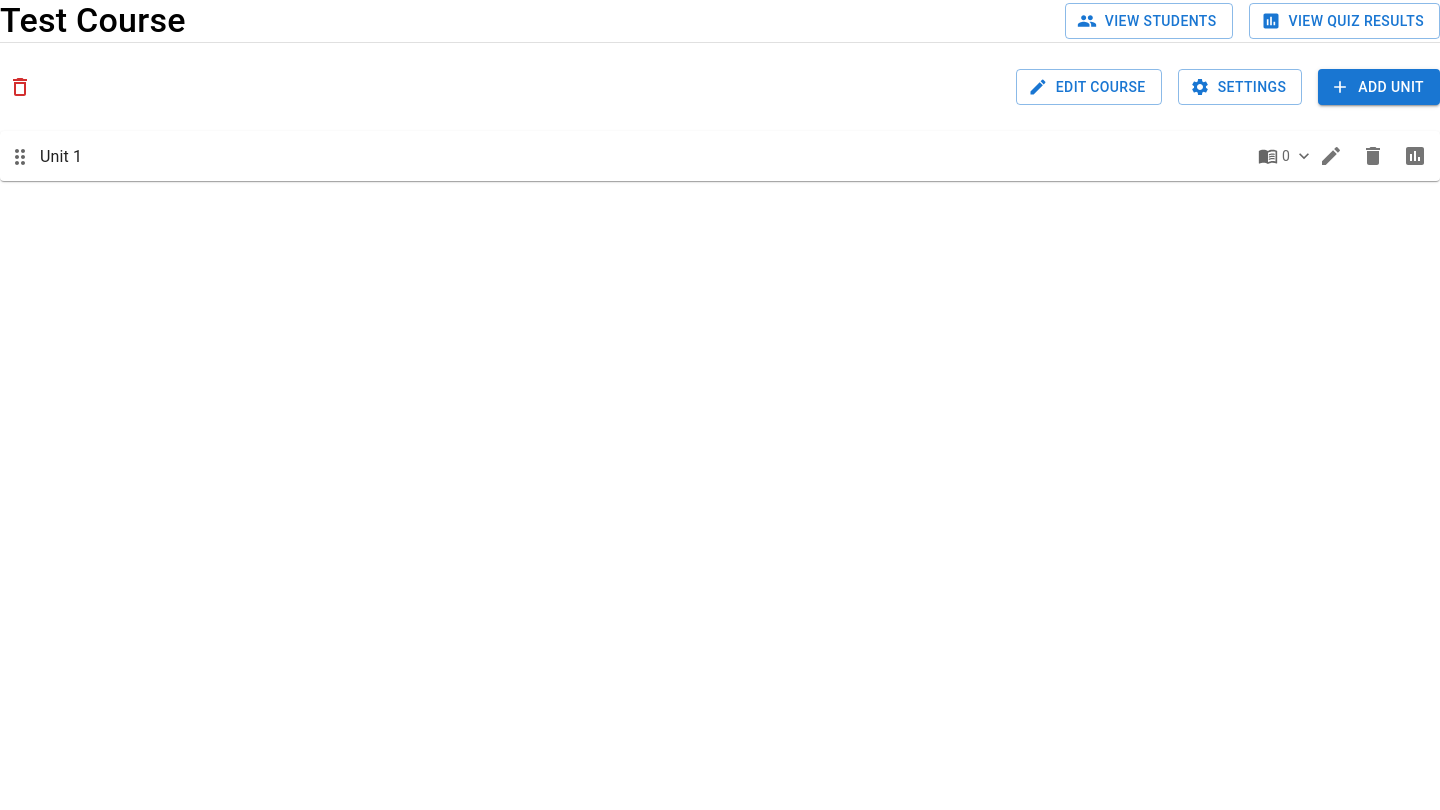
Scenario: CourseEditor › Deleting units › shows confirmation dialog when deleting unit
The image size is (1440, 810).
Expected: the text "Unit 1" is shown, [40,147,82,166]
What coordinates should you click on to do the following:
click the button with test id "delete-unit-button"
I would click on:
 (1373, 156)
Its box is [1356,139,1390,173].
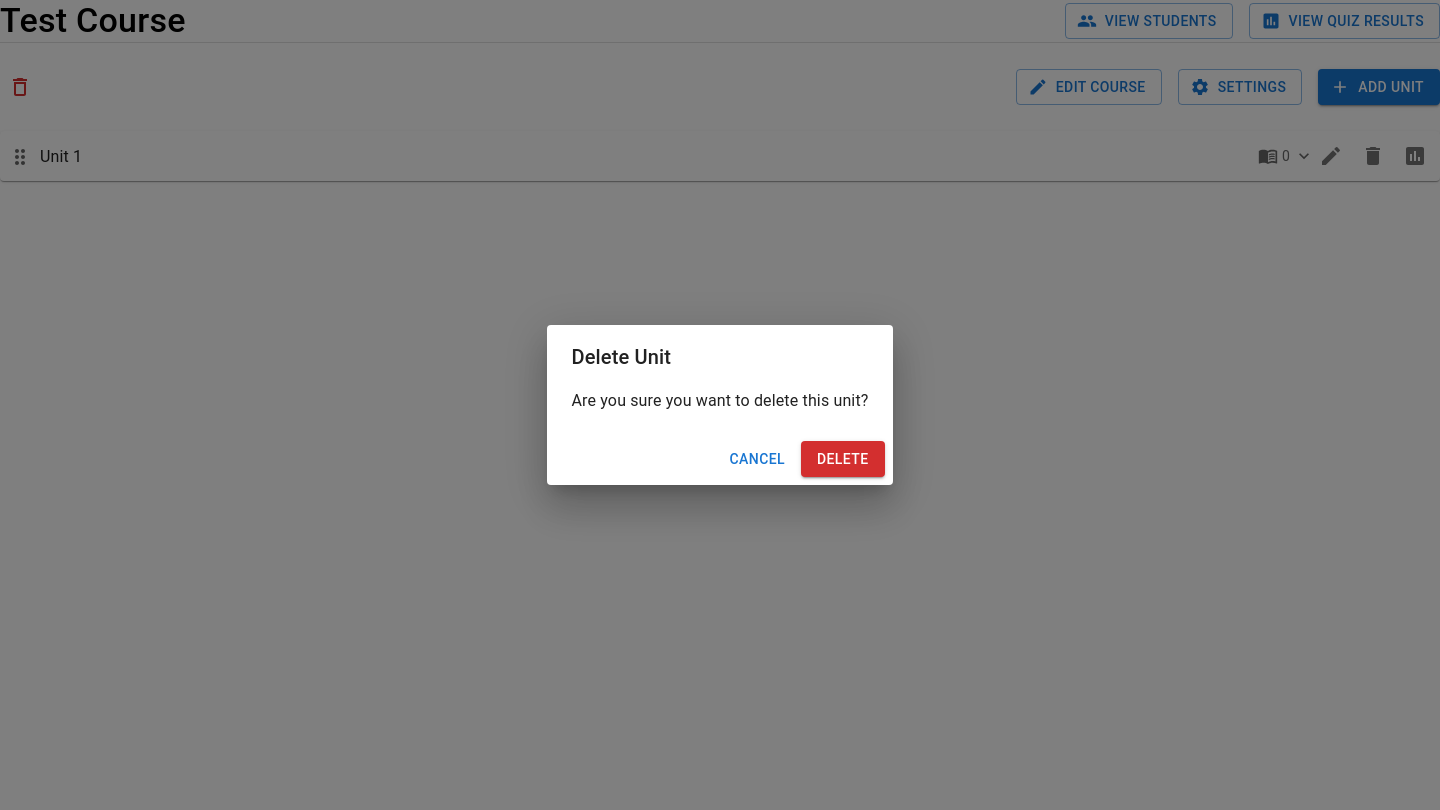
Expected: the heading "Delete Unit" is shown, [572,345,671,369]
